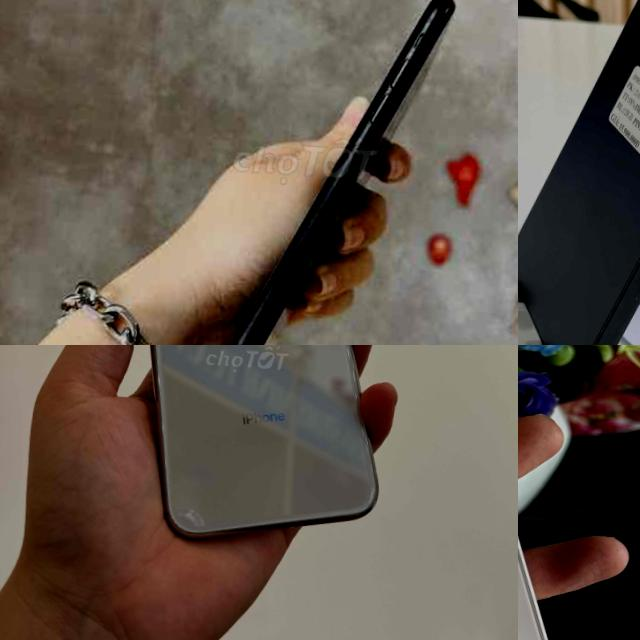physical_damage: (172, 500, 215, 536)
